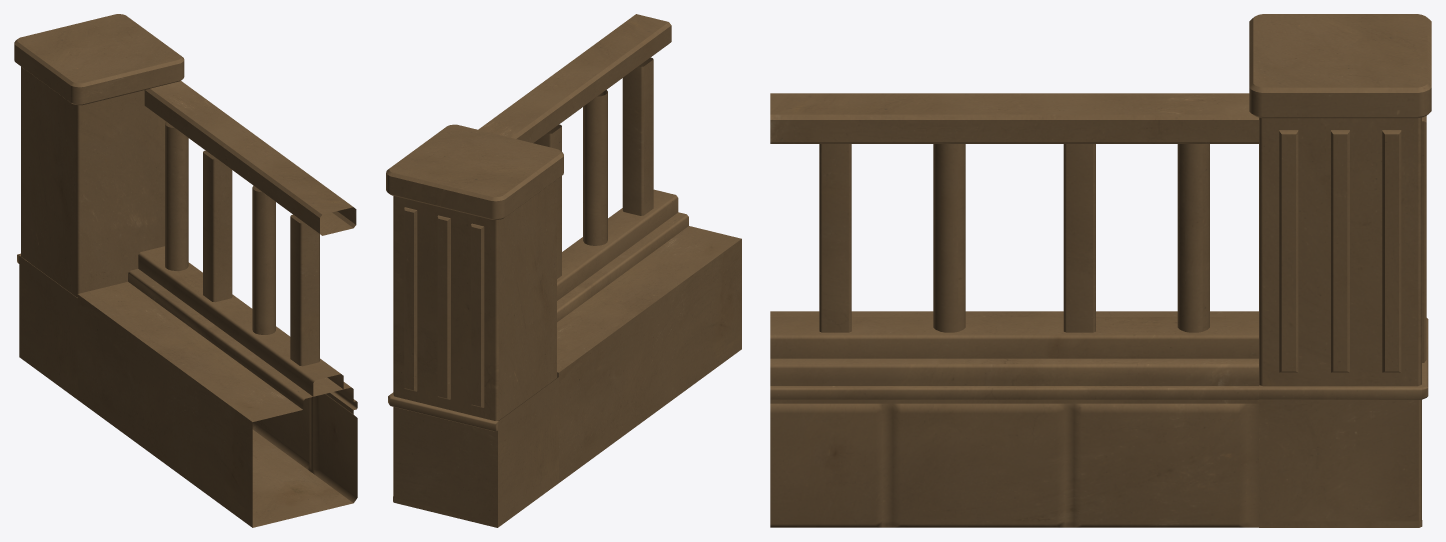
File: SM_Building02RailingS_LR.fbx
The picture shows the model from 3 angles, left to right: view 1: azimuth 30°, elevation 25°; view 2: azimuth 150°, elevation 25°; view 3: azimuth 270°, elevation 25°; orthographic projection. The views are drawn at different scales.
Parts seen in each view (by area): view 1: SM_Building02RailingS_LR_LOD0; view 2: SM_Building02RailingS_LR_LOD0; view 3: SM_Building02RailingS_LR_LOD0.
Part boxes in pixels (bbox=[...]): SM_Building02RailingS_LR_LOD0: bbox=[14, 14, 357, 527]; SM_Building02RailingS_LR_LOD0: bbox=[386, 14, 741, 527]; SM_Building02RailingS_LR_LOD0: bbox=[770, 14, 1431, 527].
Size of the model in its own units: 56 by 203 by 150.
Materials: 2 (2 with a texture image).
